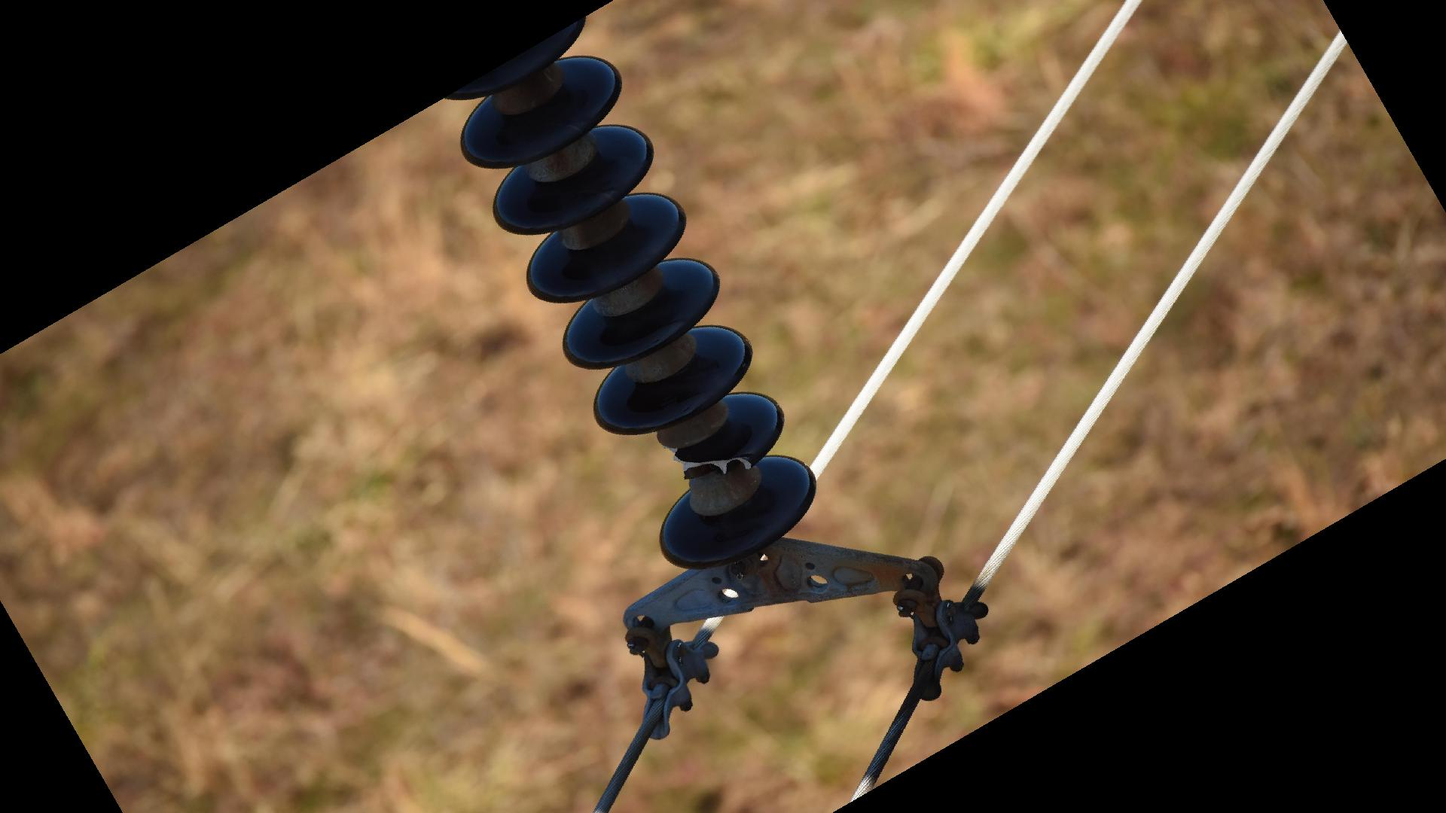insulator: (441, 14, 823, 577)
insulator_breakage: (664, 444, 761, 481)
